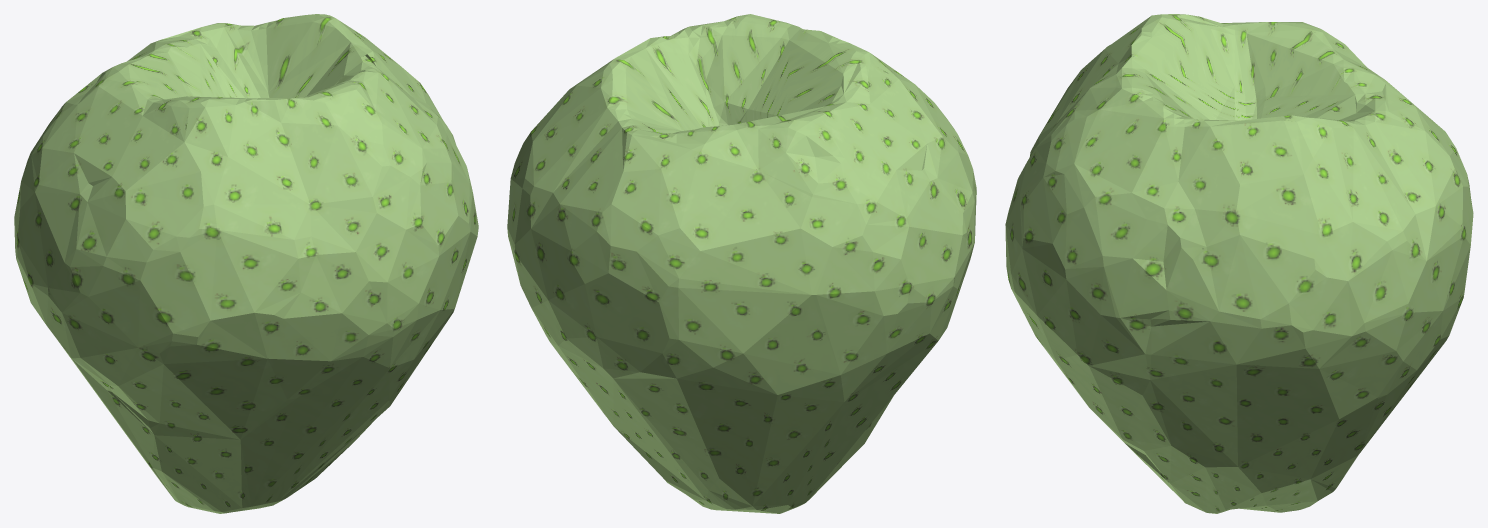
3 renders of one model, left to right at view 1: azimuth 30°, elevation 25°; view 2: azimuth 150°, elevation 25°; view 3: azimuth 270°, elevation 25°, orthographic. The views are drawn at different scales.
Parts seen in each view (by area): view 1: _004_Meshed; view 2: _004_Meshed; view 3: _004_Meshed.
Part boxes in pixels (x1=…): _004_Meshed: x1=14, y1=14, x2=478, y2=513; _004_Meshed: x1=507, y1=14, x2=976, y2=513; _004_Meshed: x1=1005, y1=14, x2=1473, y2=513.
Bounding box in the file's own units: 0.1098 × 0.1046 × 0.1135.
1 material, 1 textured.
